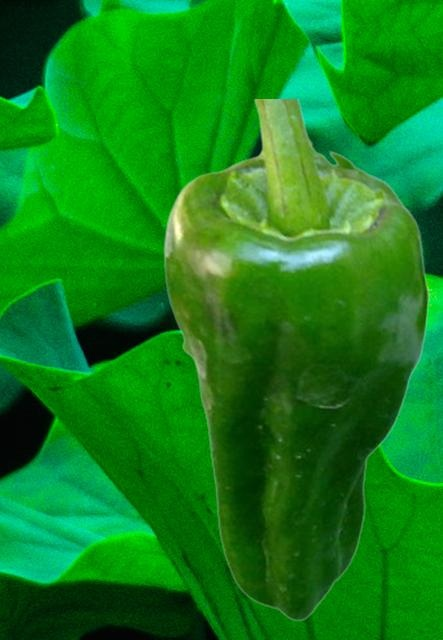bell_pepper: (162, 99, 429, 621)
